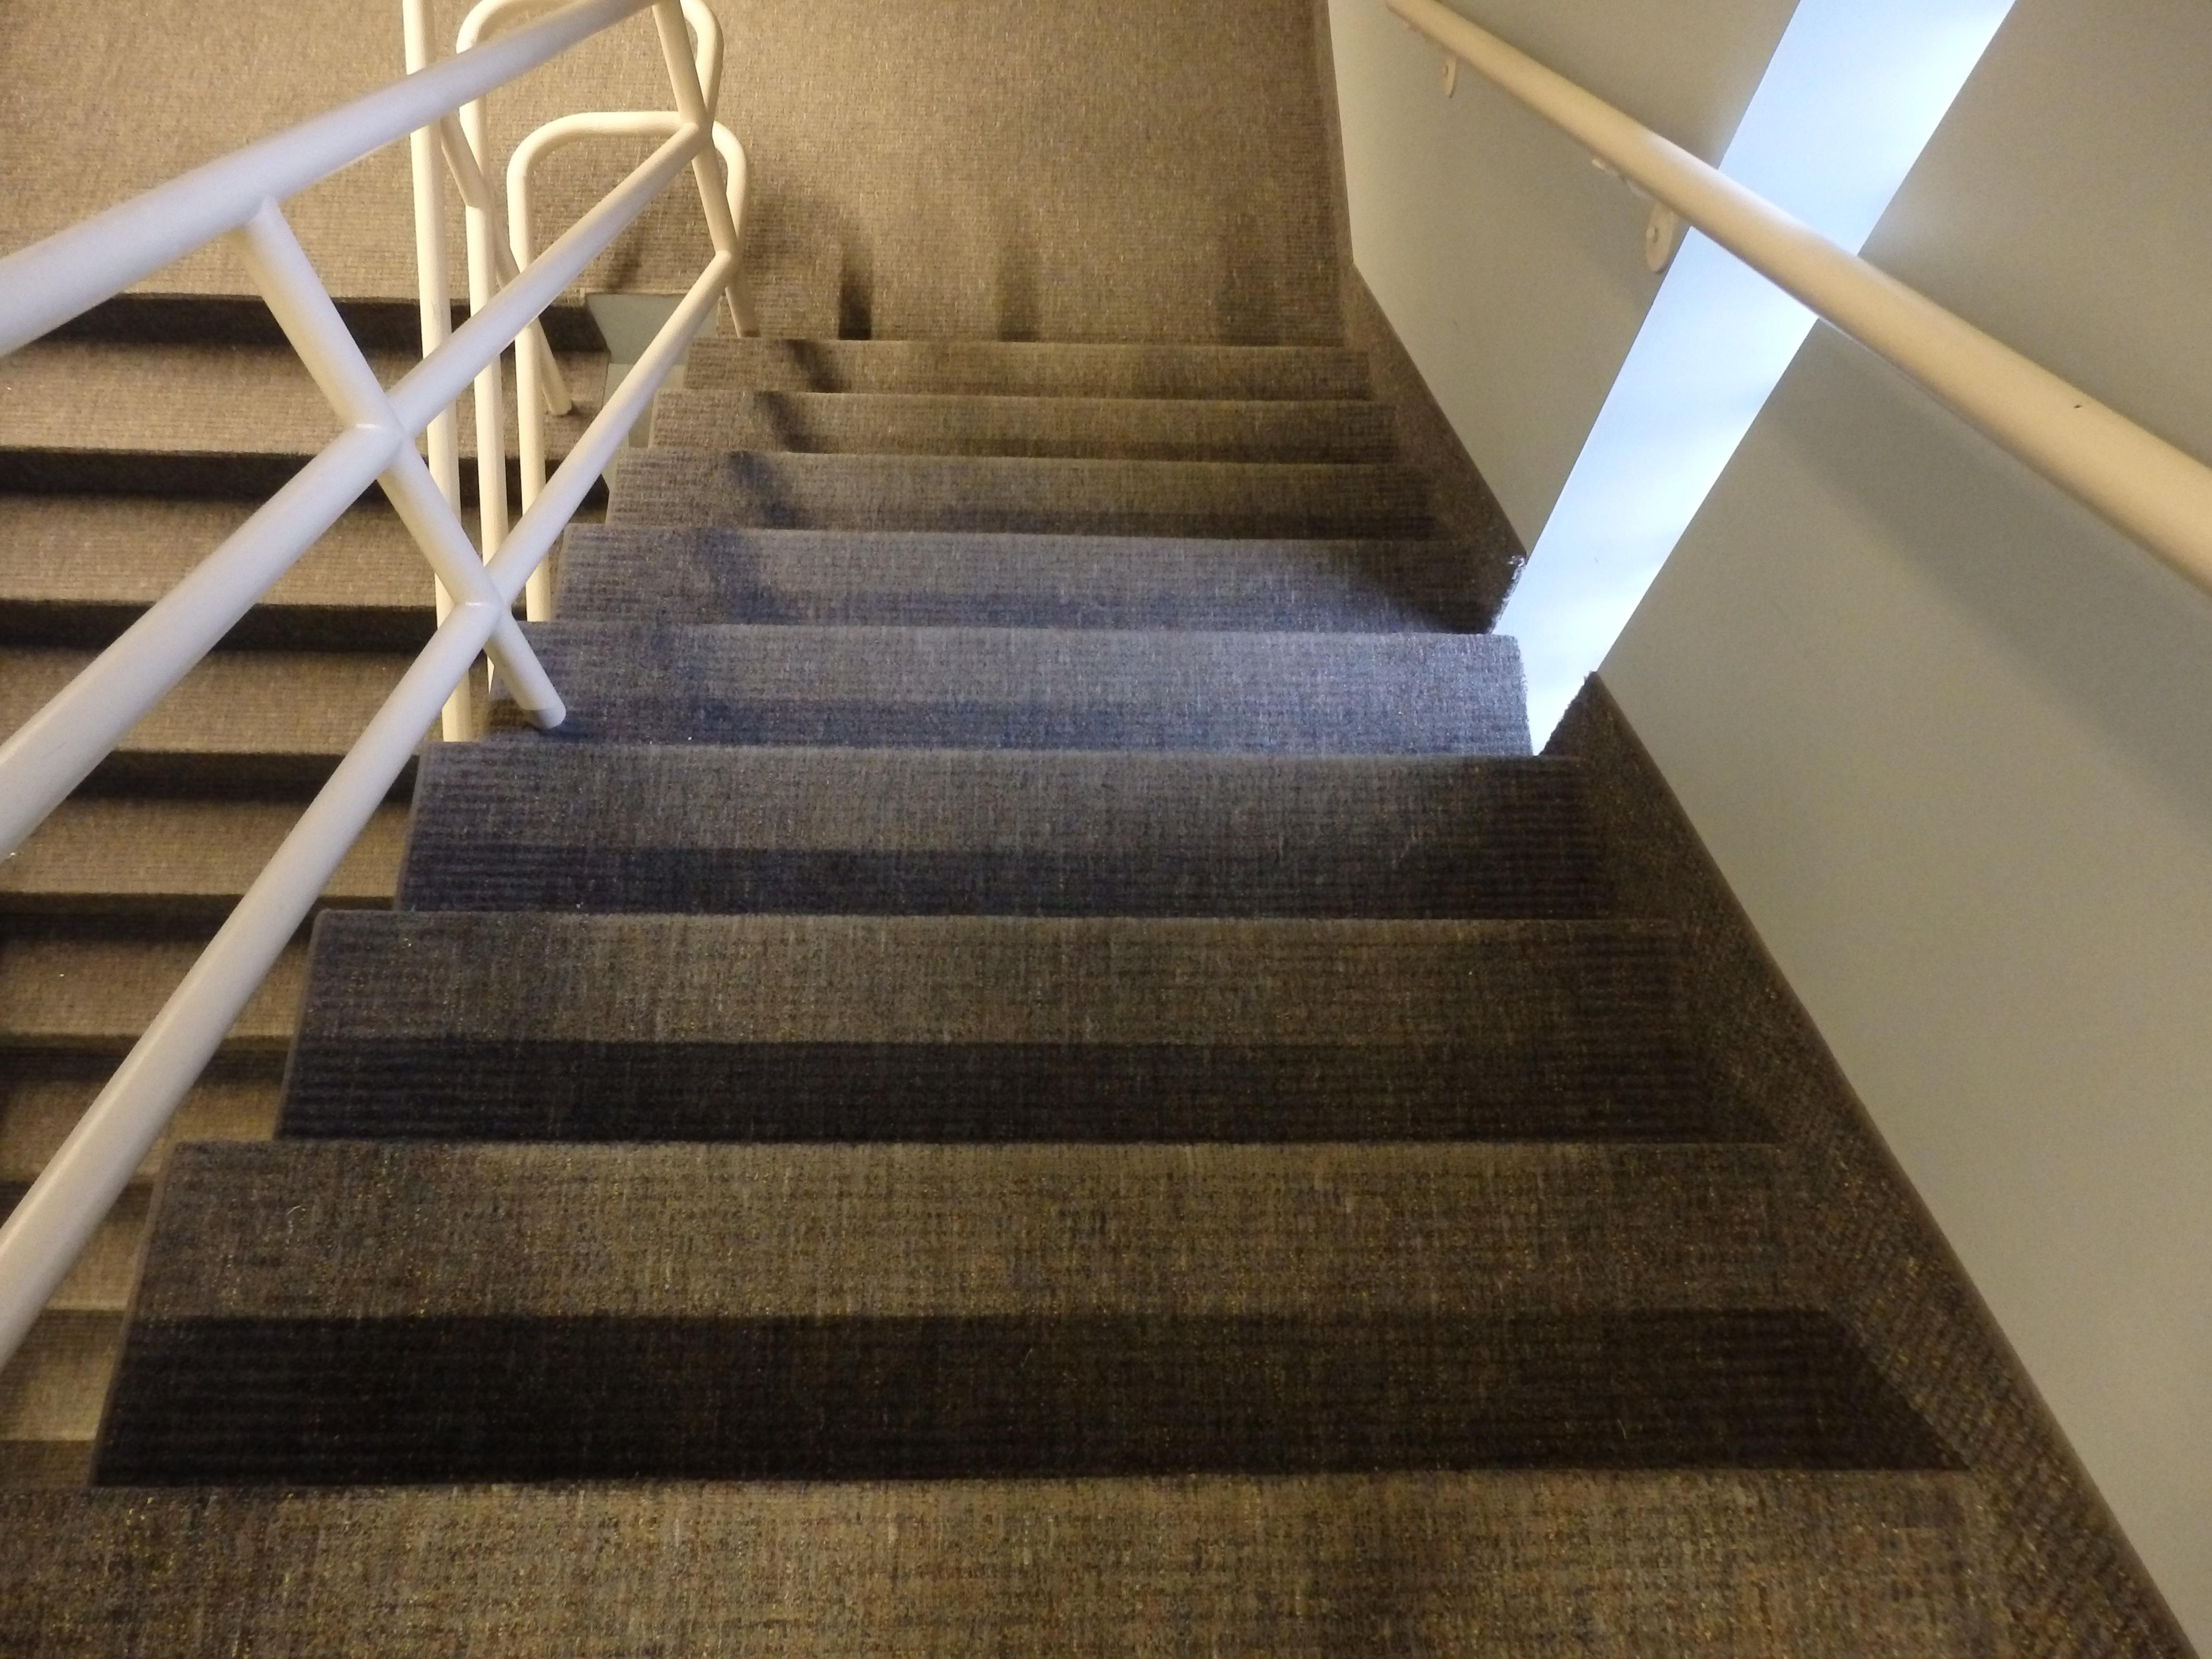stairs_down: (455, 246, 1756, 1537)
